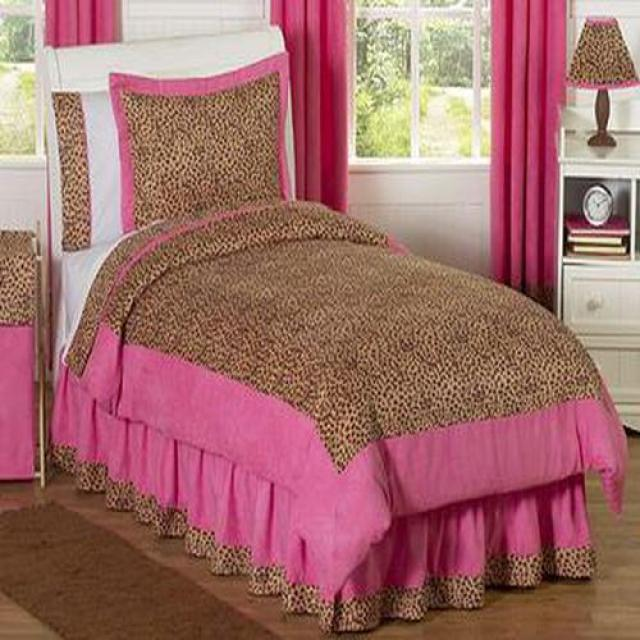bed: (42, 28, 628, 634)
